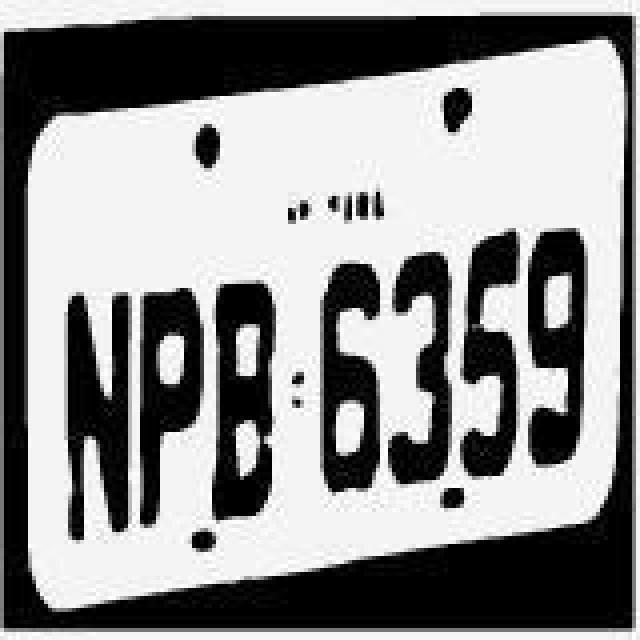3: (388, 236, 452, 492)
5: (454, 208, 522, 480)
6: (316, 250, 388, 502)
9: (520, 206, 592, 474)
B: (212, 280, 284, 520)
N: (60, 282, 132, 550)
P: (132, 286, 204, 538)
